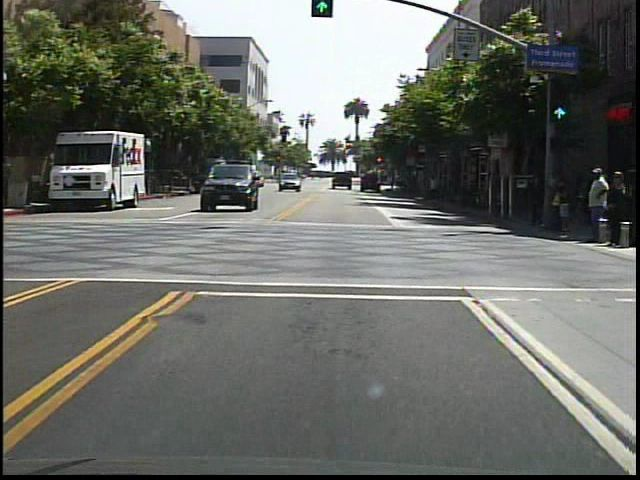person: (580, 166, 608, 246), (526, 161, 547, 231)
